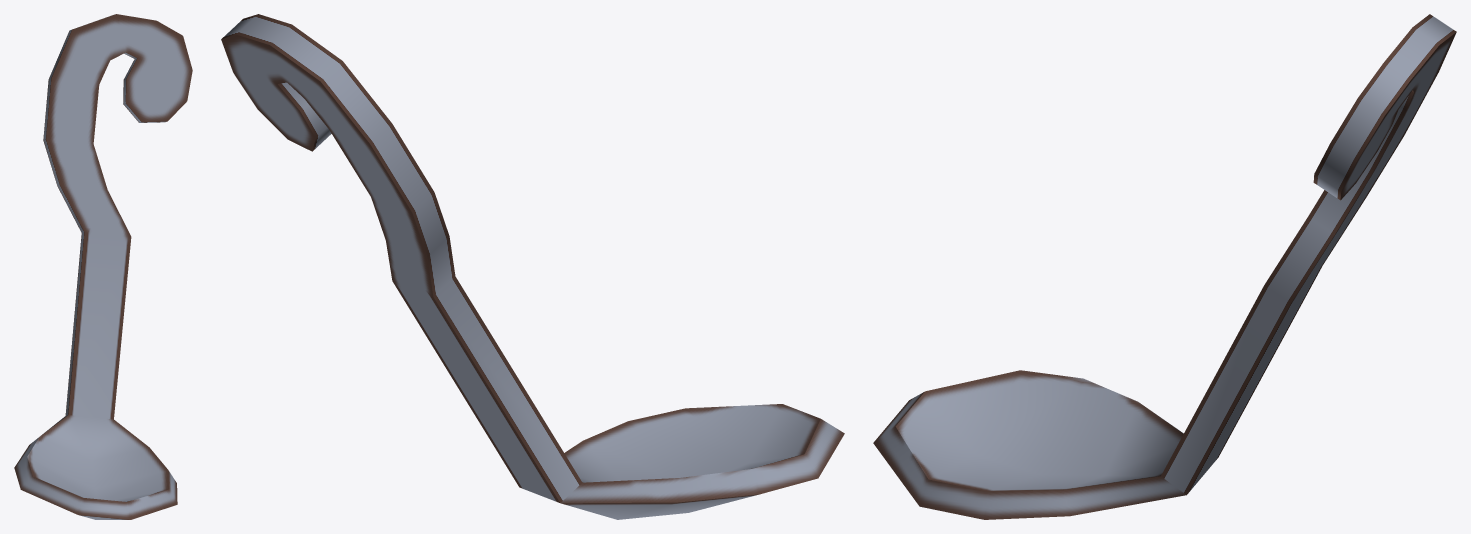
Rendered from The Spoon.fbx.
3 views of the same model, side by side, from view 1: azimuth 30°, elevation 25°; view 2: azimuth 150°, elevation 25°; view 3: azimuth 270°, elevation 25° (orthographic). The views are drawn at different scales.
Parts seen in each view (by area): view 1: polySurface50; view 2: polySurface50; view 3: polySurface50.
Part boxes in pixels (x1,y1,x2,y2): polySurface50: [14, 14, 192, 519]; polySurface50: [221, 14, 844, 519]; polySurface50: [873, 14, 1456, 519].
Bounding box in the file's own units: 38.93 × 49.88 × 45.64.
1 material, 1 textured.
